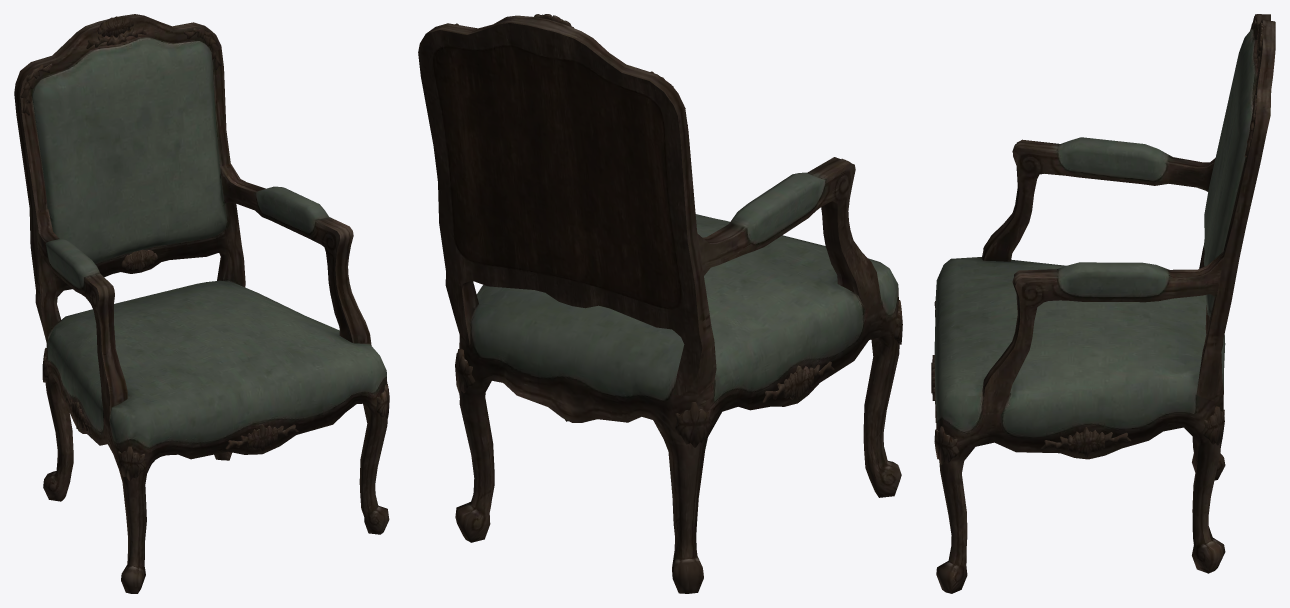
The model's file is ph-GreenChair_01.glb.
3 renders of one model, left to right at view 1: azimuth 30°, elevation 25°; view 2: azimuth 150°, elevation 25°; view 3: azimuth 270°, elevation 25°, orthographic. The views are drawn at different scales.
Visible parts, largest first — view 1: GreenChair_01; view 2: GreenChair_01; view 3: GreenChair_01.
Boxes of the visible parts, bbox=[...] form: GreenChair_01: bbox=[14, 14, 389, 593]; GreenChair_01: bbox=[418, 14, 902, 593]; GreenChair_01: bbox=[931, 14, 1275, 593].
Bounding box in the file's own units: 0.636 × 1 × 0.6277.
1 material, 1 textured.
